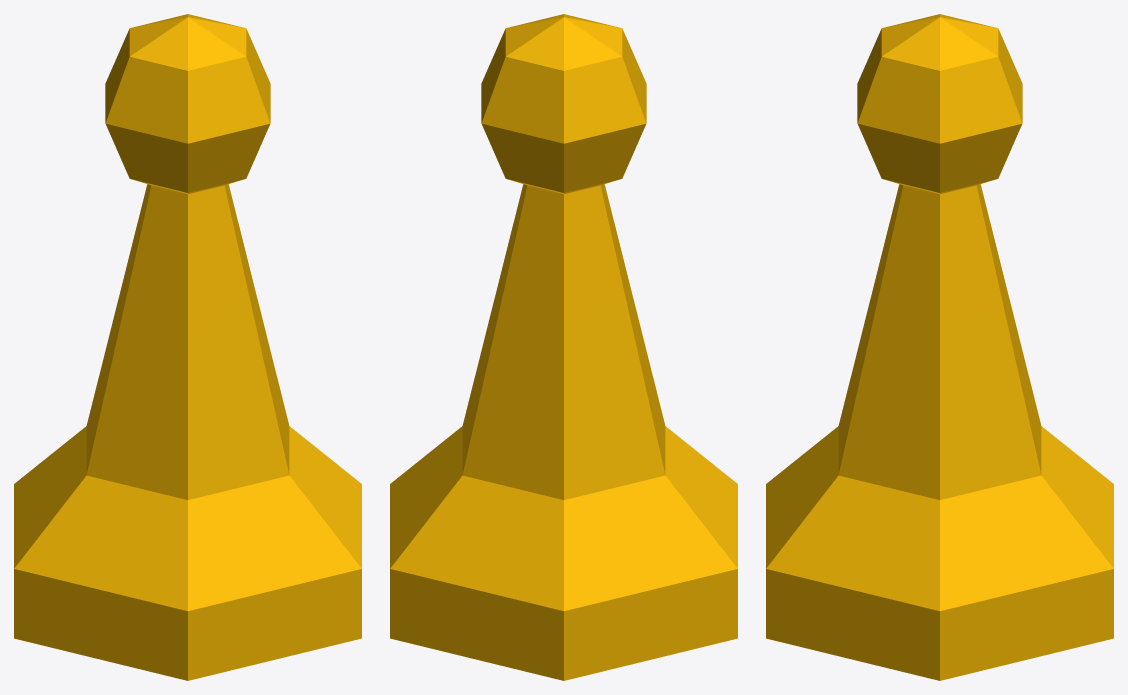
Rendered from Boardgame_Token_Yellow_01.fbx.
3 views of the same model, side by side, from view 1: azimuth 30°, elevation 25°; view 2: azimuth 150°, elevation 25°; view 3: azimuth 270°, elevation 25° (orthographic).
Parts seen in each view (by area): view 1: Boardgame_Token_Yellow_01; view 2: Boardgame_Token_Yellow_01; view 3: Boardgame_Token_Yellow_01.
Part boxes in pixels (box(x1,y1,x2,y2)): Boardgame_Token_Yellow_01: box(14, 14, 361, 680); Boardgame_Token_Yellow_01: box(390, 14, 737, 680); Boardgame_Token_Yellow_01: box(766, 14, 1113, 680).
Size of the model in its own units: 957 by 1523 by 829.
